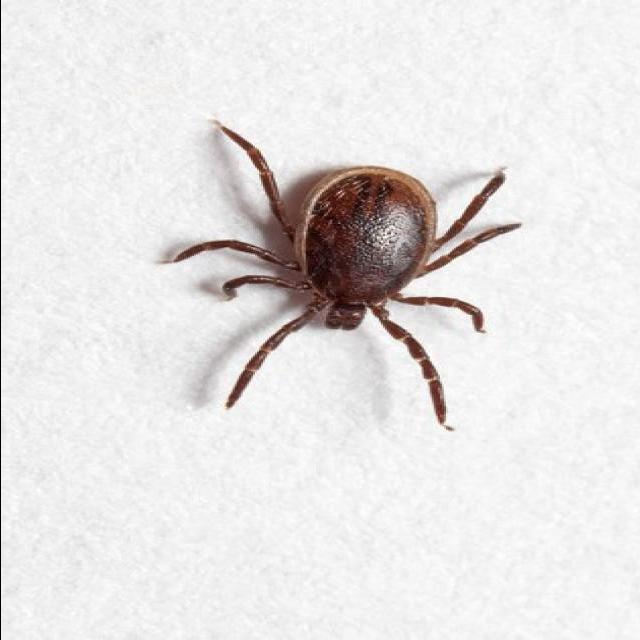Ixodes Ricinus-M: (169, 119, 518, 430)
